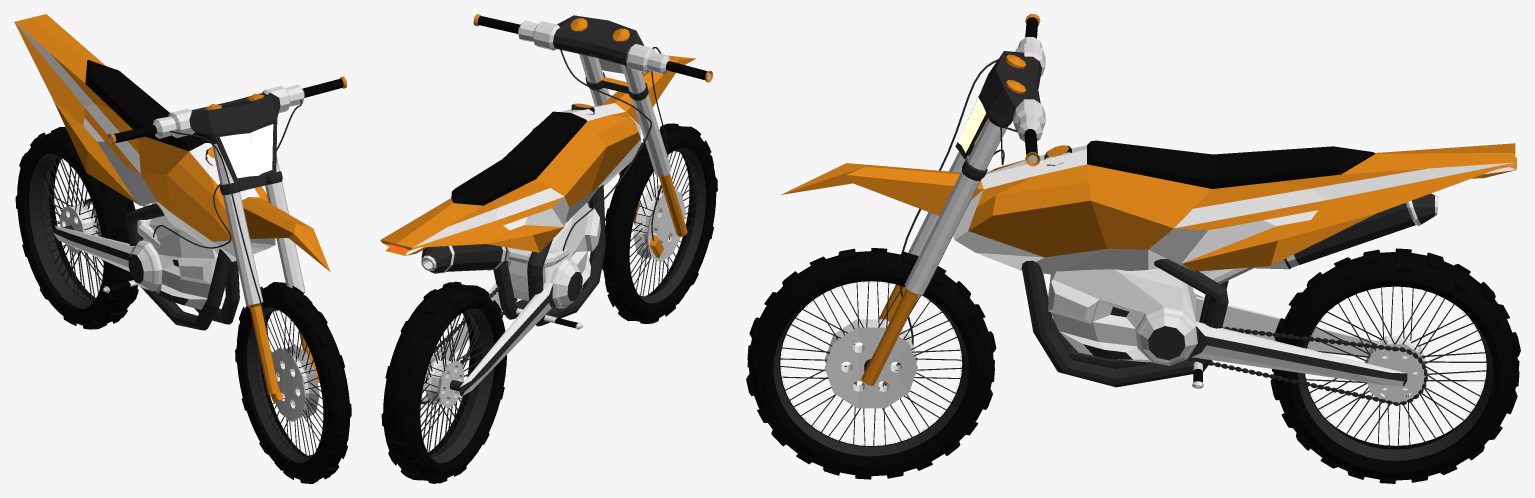
The model's file is dirt_bike_off_road_bike_low_poly.glb.
3 renders of one model, left to right at view 1: azimuth 30°, elevation 25°; view 2: azimuth 150°, elevation 25°; view 3: azimuth 270°, elevation 25°, orthographic. The views are drawn at different scales.
Visible parts, largest first — view 1: Cube, Cylinder.003, Cylinder.005, Cylinder.001; view 2: Cube, Cylinder.005, Cylinder.003, Cylinder.001; view 3: Cube, Cylinder.003, Cylinder.005, Cylinder.001.
Part boxes in pixels (x1,y1,x2,y2): Cube: (14,14,346,402); Cylinder.003: (235,282,351,483); Cylinder.005: (15,127,138,329); Cylinder.001: (53,198,162,291); Cube: (380,14,712,329); Cylinder.005: (381,281,506,483); Cylinder.003: (602,123,717,323); Cylinder.001: (421,259,582,404); Cube: (781,14,1516,388); Cylinder.003: (746,248,996,479); Cylinder.005: (1270,248,1520,483); Cylinder.001: (1135,293,1427,405).
Bounding box in the file's own units: 0.8823 × 1.21 × 2.07.
